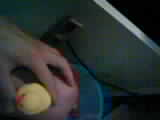duck: (11, 80, 51, 113)
